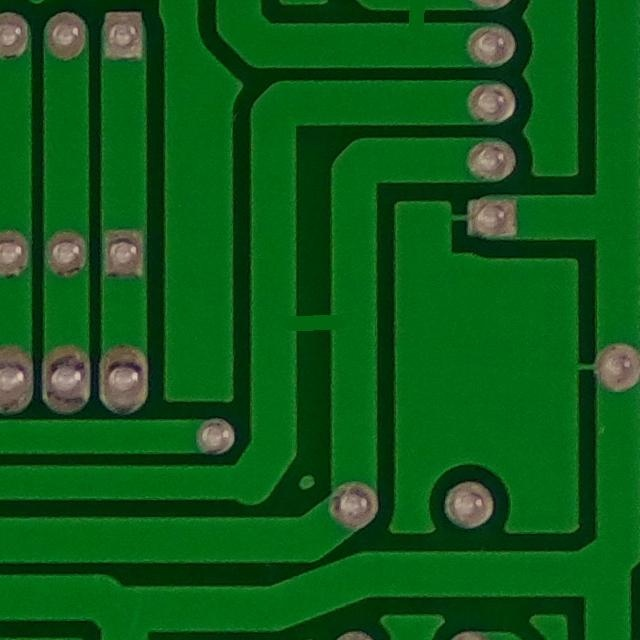short: (252, 263, 389, 376)
